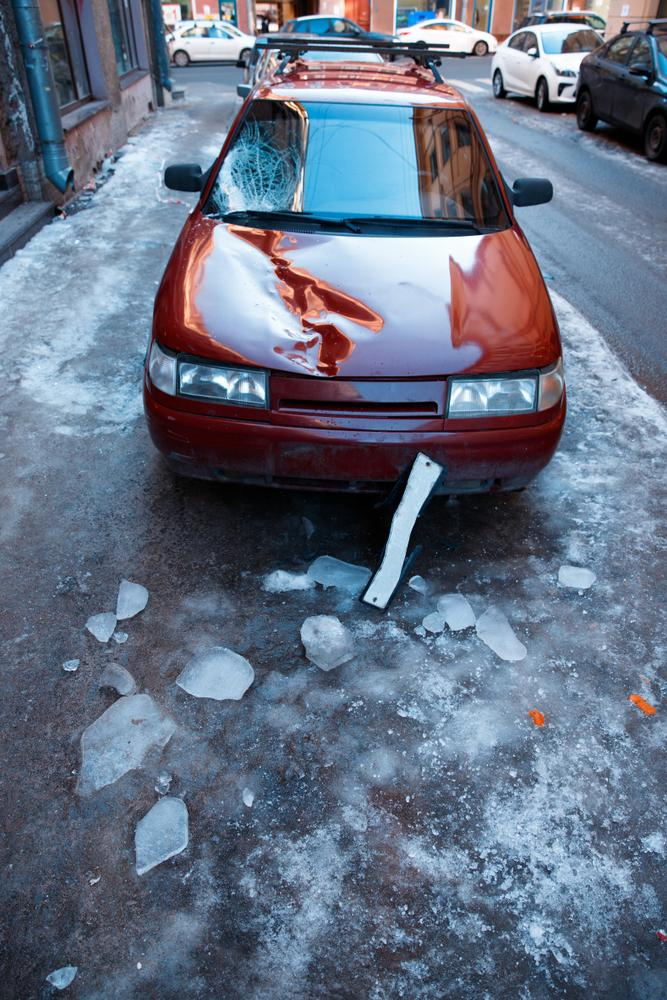dent: (192, 224, 389, 375)
glass shatter: (203, 99, 512, 220)
